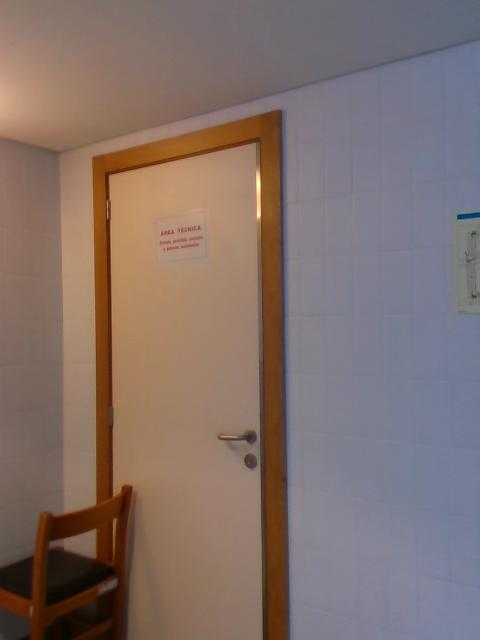closed_door: (91, 107, 290, 638)
